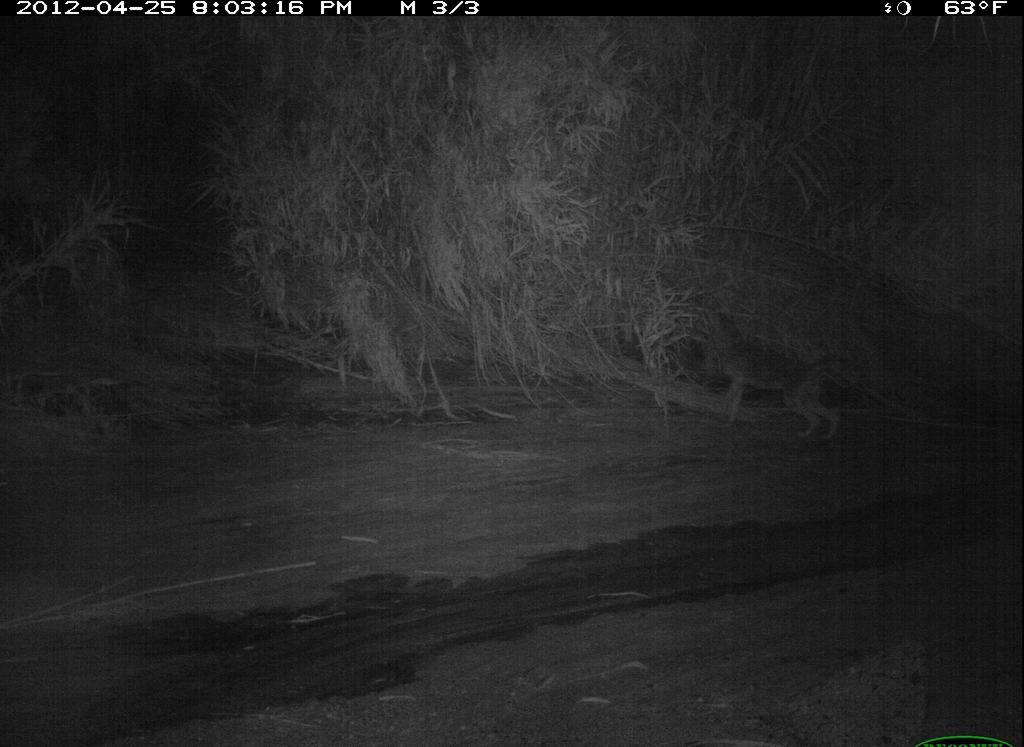coyote: (704, 306, 860, 443)
